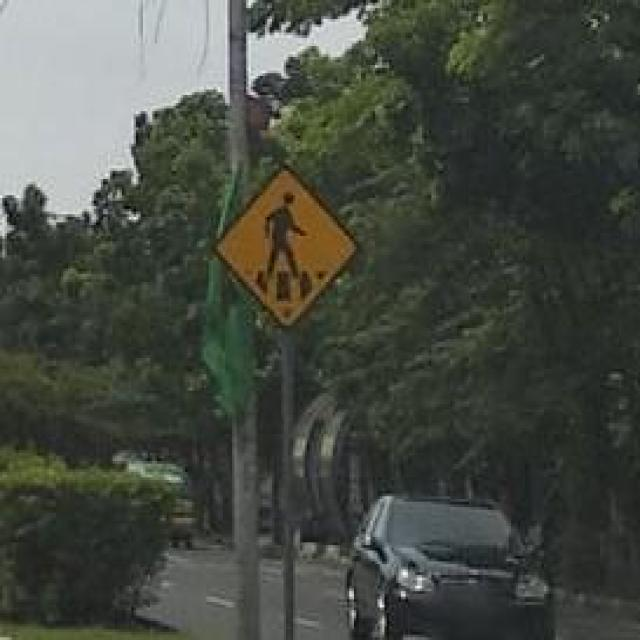traffic sign: (216, 165, 356, 322)
